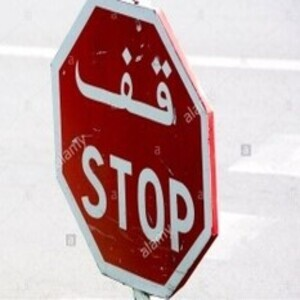stop: (50, 1, 216, 299)
